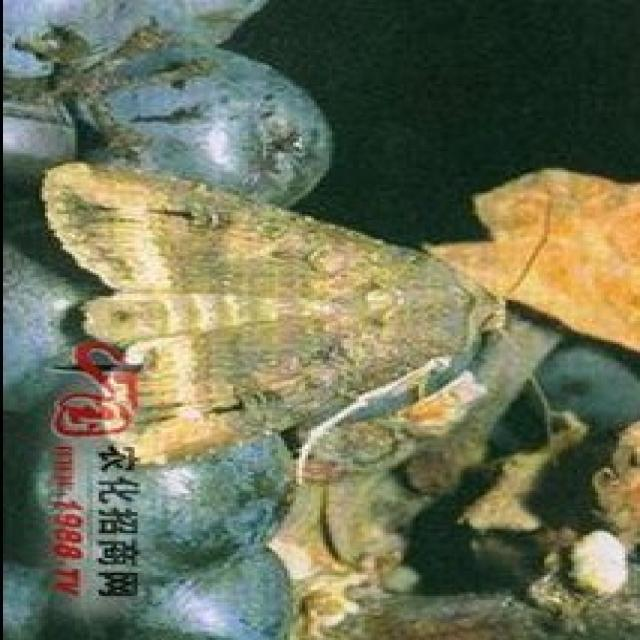black cutworm: (43, 159, 527, 493)
